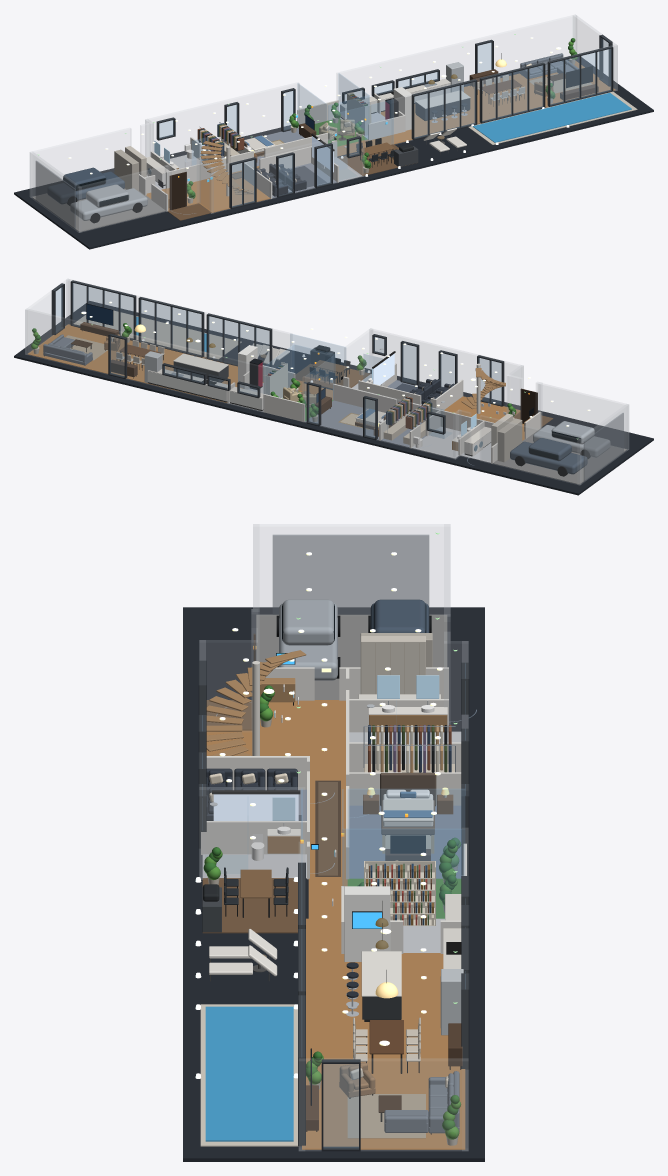
3 renders of one model, top to bottom at view 1: azimuth 30°, elevation 25°; view 2: azimuth 150°, elevation 25°; view 3: azimuth 270°, elevation 25°, orthographic. The views are drawn at different scales.
Visible parts, largest first — view 1: wall_ext (×12), Ground_Floor, site_pad, wall_glass (×4), wall_int (×5), pool, window_living_pool, window_dining_pool, window_kitchen_pool, cover_garage_door, floor_garage, window_stair (+19 smaller); view 2: wall_ext (×12), Ground_Floor, site_pad, wall_glass (×4), window_dining_pool, wall_int (×4), window_kitchen_pool, window_living_pool, cover_garage_door, floor_garage, floor_living, floor_bed_5 (+16 smaller); view 3: Ground_Floor, wall_ext (×5), site_pad, wall_glass (×2), pool, cover_garage_door, wall_int (×6), floor_kitchen, floor_hall, floor_dining, floor_living, window_living_side (+9 smaller).
Boxes of the visible parts, x1,y1,x2,y2 form: wall_ext (×12): (30,15,617,232); Ground_Floor: (47,38,637,223); site_pad: (14,56,653,249); wall_glass (×4): (297,73,393,147); wall_int (×5): (166,115,405,198); pool: (472,93,631,142); window_living_pool: (547,46,613,106); window_dining_pool: (479,62,545,123); window_kitchen_pool: (411,79,477,140); cover_garage_door: (35,160,75,228); floor_garage: (32,188,165,232); window_stair: (229,157,256,208); wall_ext (×12): (25,279,628,484); Ground_Floor: (31,303,610,476); site_pad: (14,301,653,495); wall_glass (×4): (263,334,345,420); window_dining_pool: (138,297,204,357); wall_int (×4): (333,379,494,431); window_kitchen_pool: (206,313,272,367); window_living_pool: (70,280,136,340); cover_garage_door: (583,413,623,481); floor_garage: (493,428,626,484); floor_living: (27,324,132,370); floor_bed_5: (305,400,378,439); Ground_Floor: (200,599,476,1146); wall_ext (×5): (200,524,467,1150); site_pad: (183,607,484,1161); wall_glass (×2): (343,789,464,918); pool: (205,1006,293,1141); cover_garage_door: (272,534,429,614); wall_int (×6): (201,667,448,854); floor_kitchen: (306,953,443,1033); floor_hall: (308,700,347,952); floor_dining: (306,1033,465,1084); floor_living: (302,1084,465,1149); window_living_side: (321,1059,360,1151).
Bounding box in the file's own units: 39.9 × 3.43 × 9.24.
